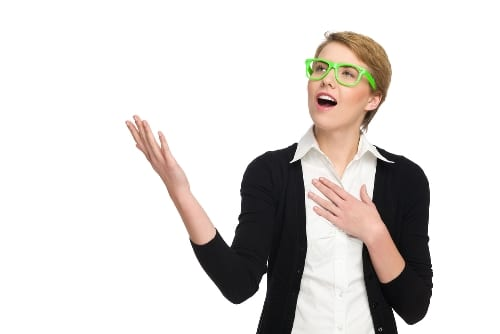person: (251, 23, 445, 292)
